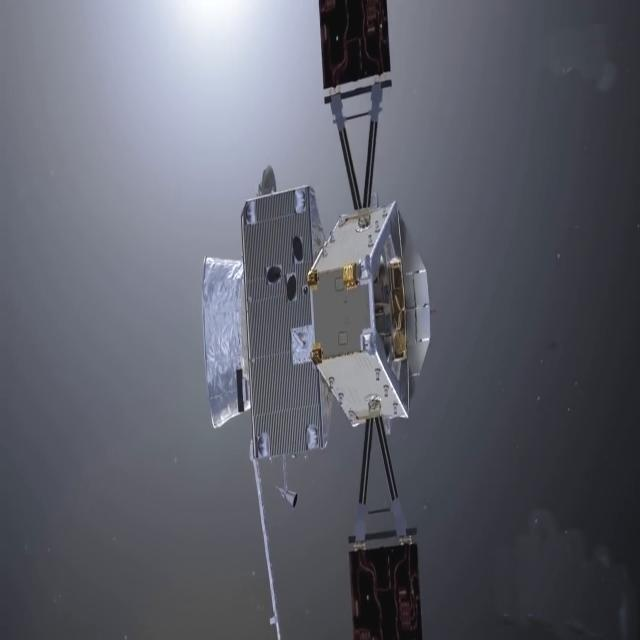satellite: (196, 0, 435, 640)
